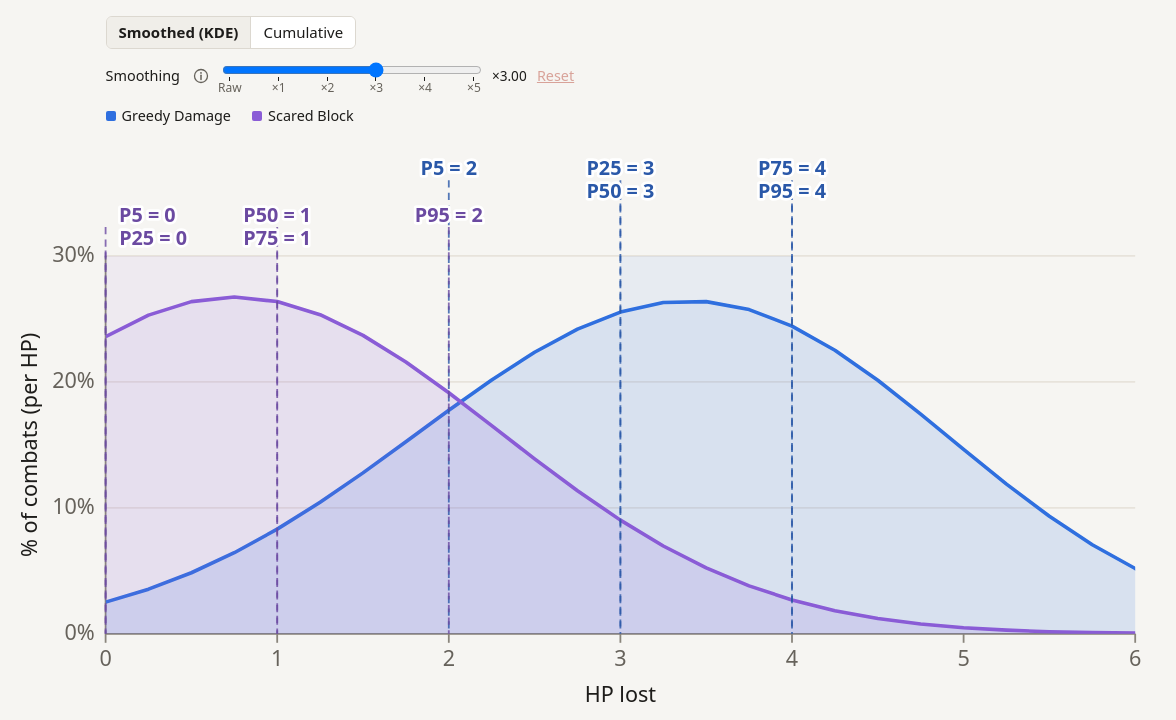
Test: chart legend and smoothing slider › the slider at its minimum reads Raw
Set the slider to "0" at (230, 70), box [222,58,482,80]
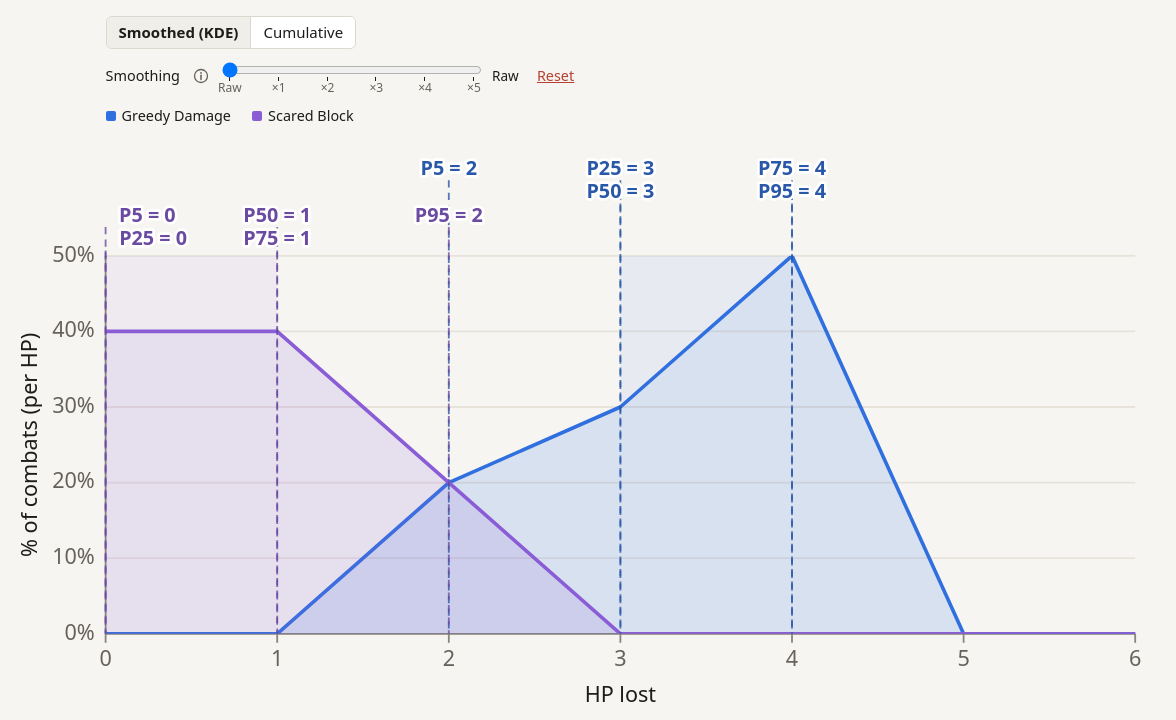
Now the 1st text "Raw" is shown, box [492,66,519,84]
